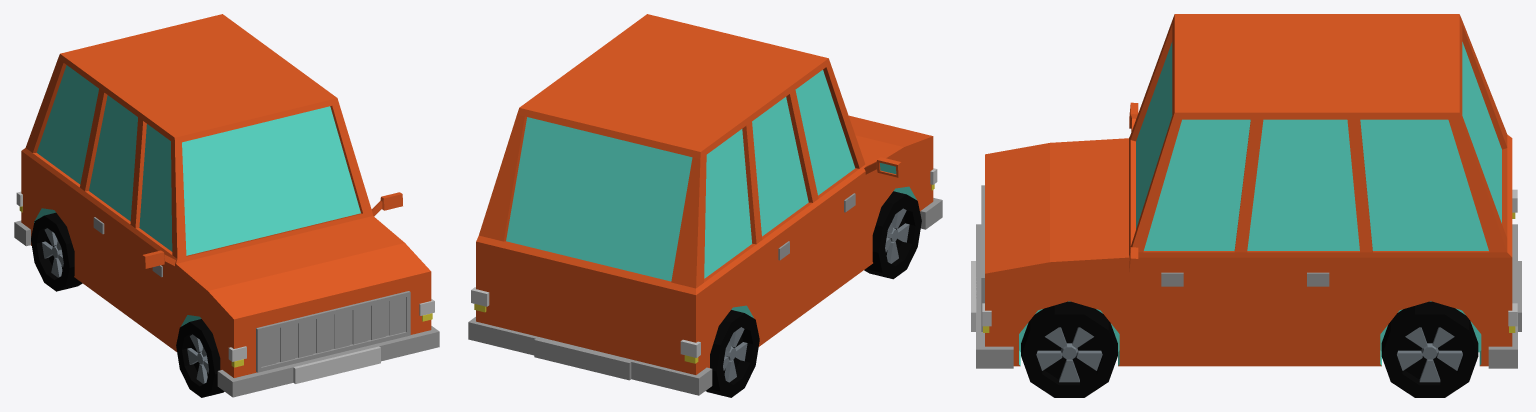
The model's file is car1.fbx.
The picture shows the model from 3 angles, left to right: view 1: azimuth 30°, elevation 25°; view 2: azimuth 150°, elevation 25°; view 3: azimuth 270°, elevation 25°; orthographic projection. The views are drawn at different scales.
Parts seen in each view (by area): view 1: Cube, Cylinder.001, Cylinder; view 2: Cube, Cylinder, Cylinder.001; view 3: Cube, Cylinder.001, Cylinder.
Boxes of the visible parts, x1,y1,x2,y2 form: Cube: (14,14,439,397); Cylinder.001: (31,212,82,291); Cylinder: (176,319,224,397); Cube: (468,14,942,395); Cylinder: (864,191,921,279); Cylinder.001: (706,310,759,397); Cube: (971,14,1521,368); Cylinder.001: (1381,301,1478,397); Cylinder: (1021,301,1117,397).
Bounding box in the file's own units: 1.99 × 2.98 × 1.62.
